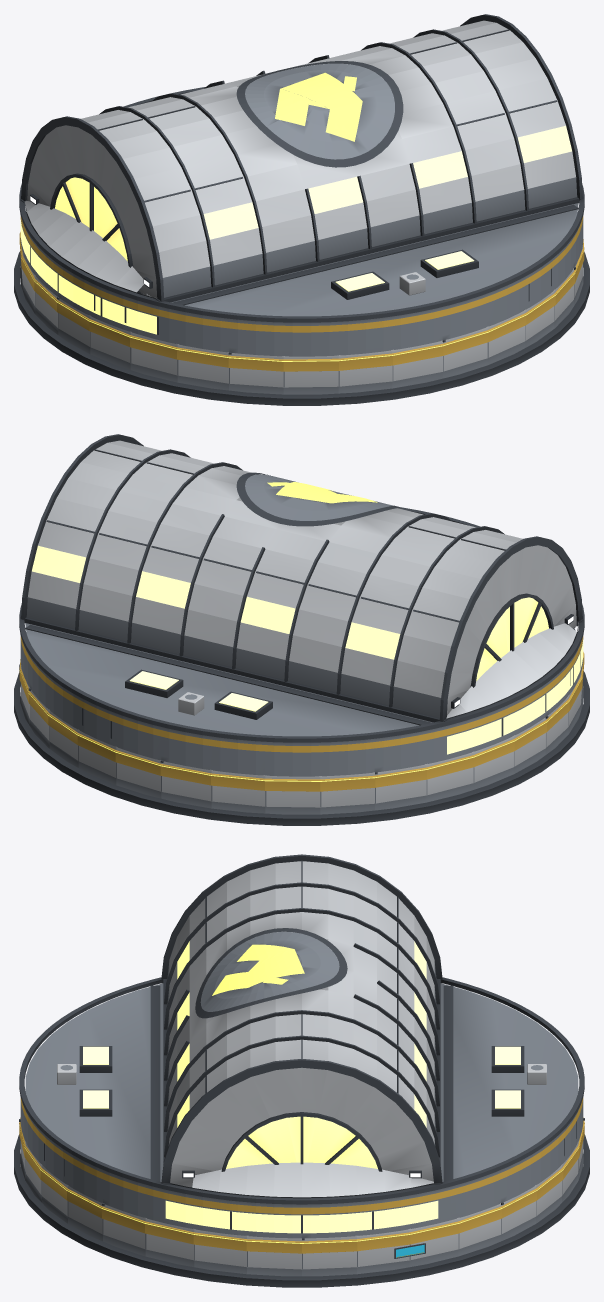
Rendered from residence_tube_m.glb.
The picture shows the model from 3 angles, top to bottom: view 1: azimuth 30°, elevation 25°; view 2: azimuth 150°, elevation 25°; view 3: azimuth 270°, elevation 25°; orthographic projection.
Visible parts, largest first — view 1: Roof, Base, Wall_21, Wall_20, Wall_22, Wall_19, Wall_23, Upper_21, Upper_20, Upper_22, Wall_18, Upper_19 (+17 smaller); view 2: Roof, Base, Wall_10, Wall_11, Wall_09, Wall_12, Wall_08, Upper_10, Upper_11, Upper_09, Wall_13, Upper_12 (+17 smaller); view 3: Roof, Base, Wall_00, Wall_31, Wall_30, Wall_29, Wall_01, Upper_31, Upper_00, Upper_01, Upper_30, Wall_02 (+16 smaller).
Part boxes in pixels (x1,y1,x2,y2): Roof: (19,14,584,322); Base: (14,251,589,405); Wall_21: (283,355,338,394); Wall_20: (228,352,283,394); Wall_22: (338,350,392,393); Wall_19: (177,344,228,390); Wall_23: (392,340,443,388); Upper_21: (283,321,338,356); Upper_20: (229,318,283,356); Upper_22: (338,316,392,355); Wall_18: (129,331,177,382); Upper_19: (177,310,229,352); Roof: (19,434,584,742); Base: (14,671,589,825); Wall_10: (265,775,320,814); Wall_11: (320,772,375,814); Wall_09: (211,770,265,813); Wall_12: (375,764,426,810); Wall_08: (160,760,211,808); Upper_10: (265,741,320,776); Upper_11: (320,738,374,776); Upper_09: (211,736,265,775); Wall_13: (426,751,474,802); Upper_12: (374,730,426,771); Roof: (19,854,584,1204); Base: (14,1134,589,1287); Wall_00: (302,1235,357,1276); Wall_31: (246,1235,301,1276); Wall_30: (193,1229,246,1274); Wall_29: (145,1218,194,1266); Wall_01: (357,1229,410,1274); Upper_31: (247,1202,301,1238); Upper_00: (302,1202,356,1238); Upper_01: (357,1195,409,1235); Upper_30: (194,1195,246,1235); Wall_02: (409,1218,458,1266).
Bounding box in the file's own units: 17.76 × 7.1 × 17.76.
